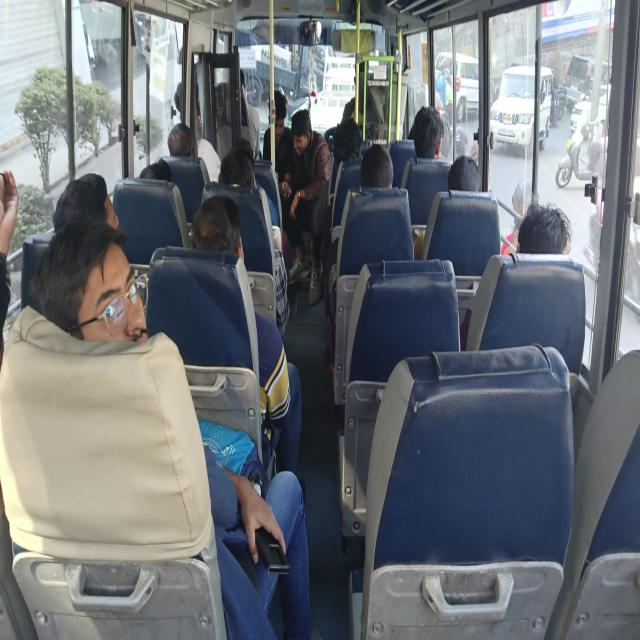person: (30, 218, 312, 638), (190, 194, 302, 476), (461, 200, 572, 350), (324, 143, 394, 370), (217, 143, 290, 337), (27, 172, 119, 316), (280, 108, 331, 303), (413, 153, 480, 260), (173, 80, 221, 182), (52, 172, 119, 234), (0, 170, 19, 370), (262, 90, 294, 192), (515, 201, 572, 255), (341, 71, 380, 140), (408, 105, 444, 159), (218, 145, 256, 188), (359, 143, 393, 189), (332, 117, 362, 167), (447, 154, 480, 192), (167, 122, 196, 156), (138, 158, 172, 180)
